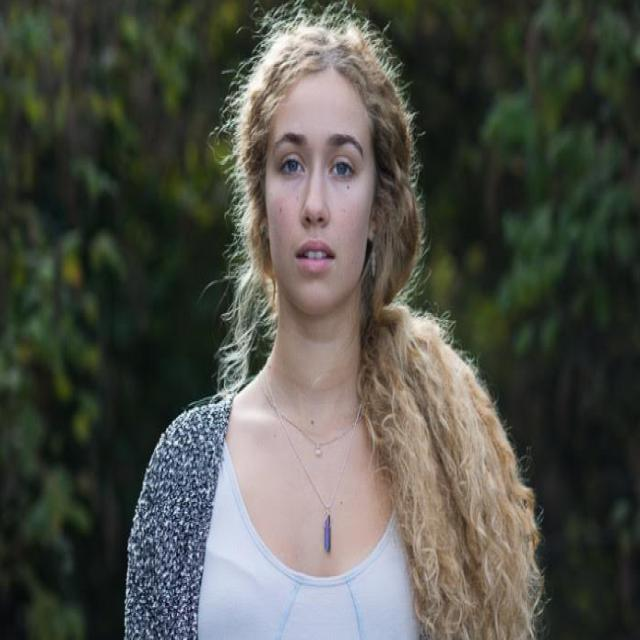mobile_phonerotation: (122, 2, 547, 637)
